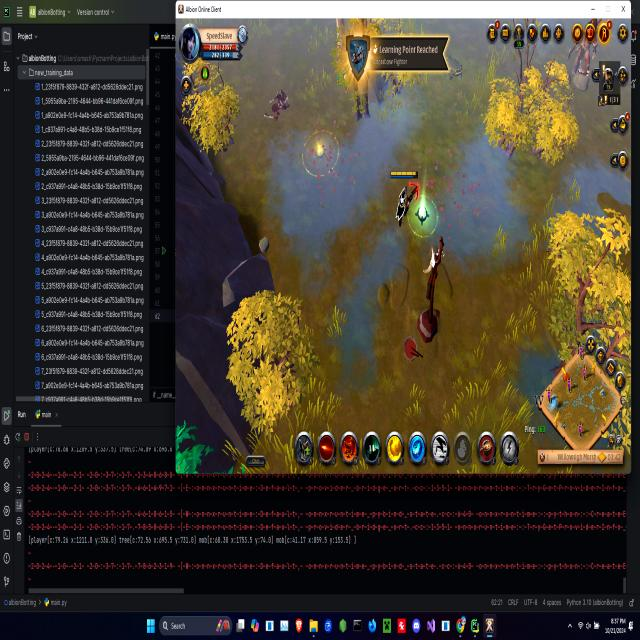ore: (565, 21, 602, 84), (439, 47, 468, 83)
red: (388, 163, 422, 226)
